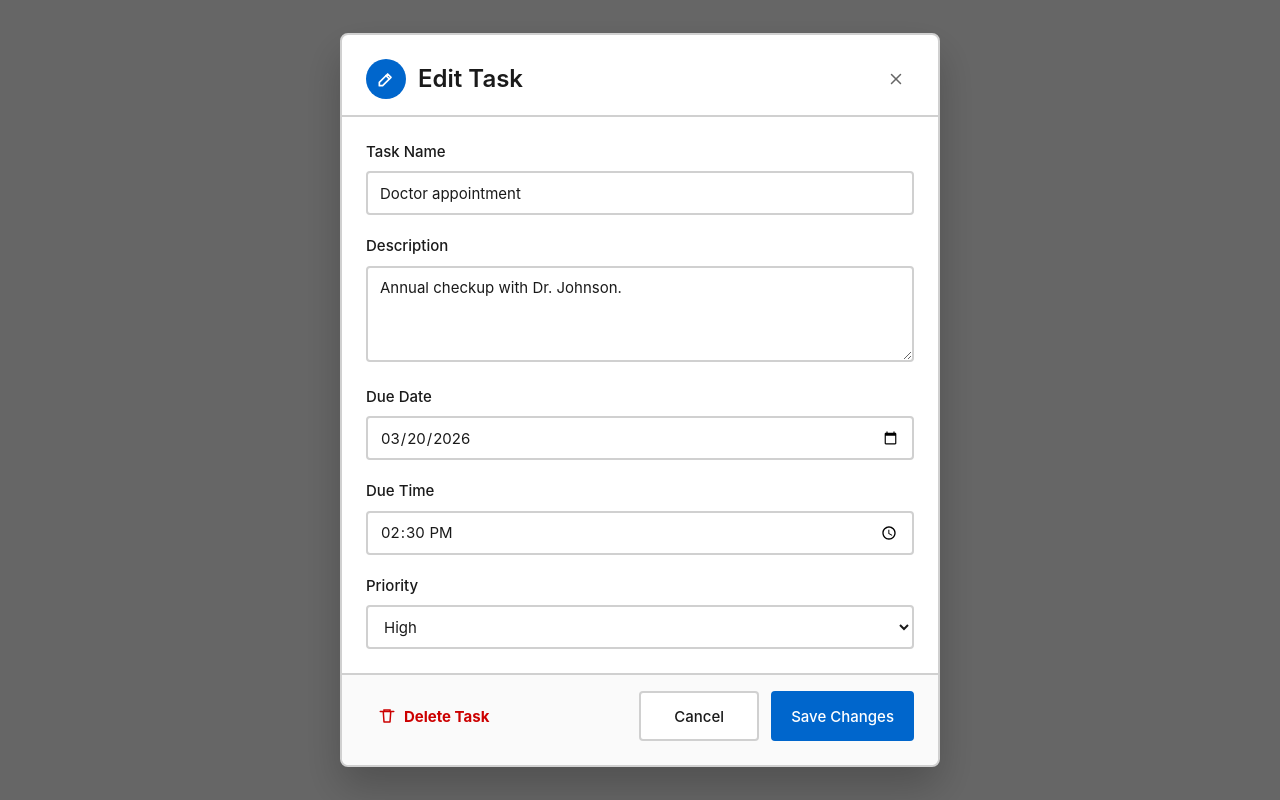
Test: EditTaskModal › shows validation when date and time are cleared and submitted
The image size is (1280, 800).
Clear the date field labelled "Due Date" at (640, 438), box [366,416,914,460]
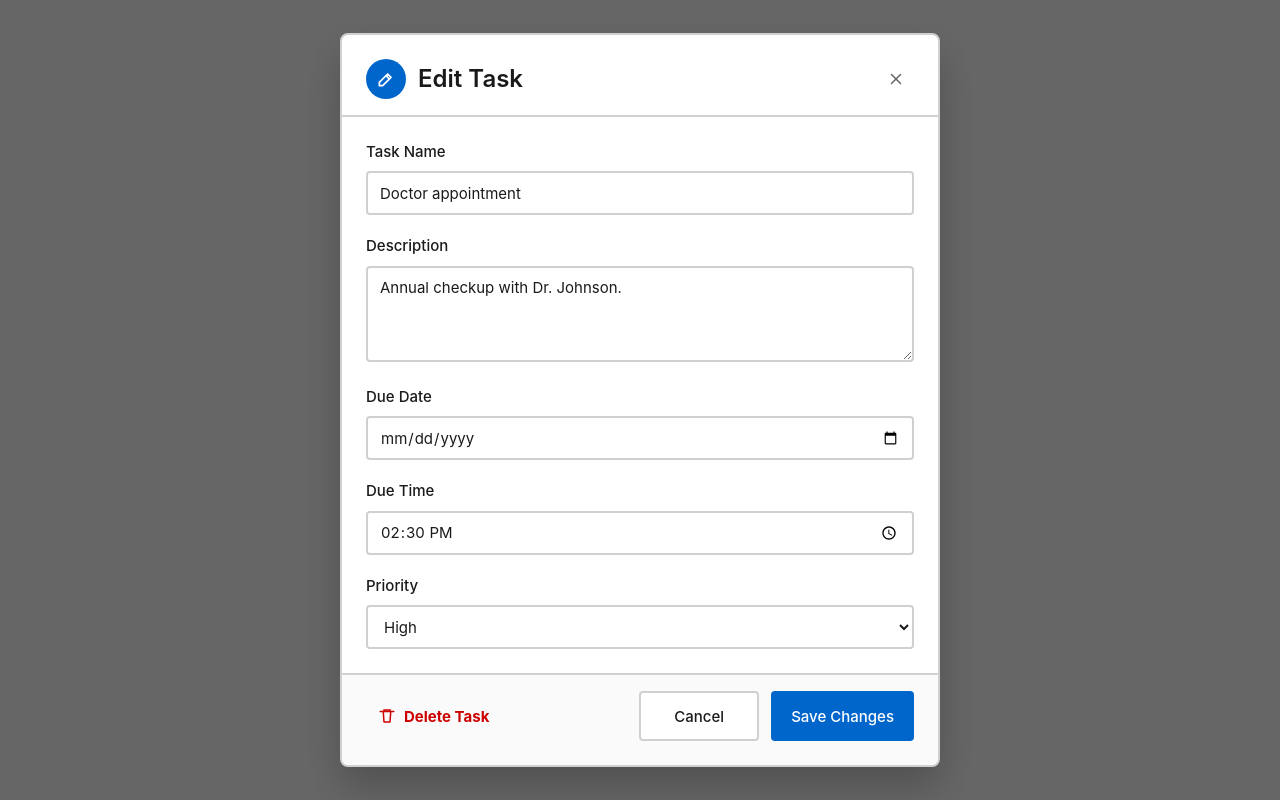
Clear the time field labelled "Due Time" at (640, 533), box [366,511,914,555]
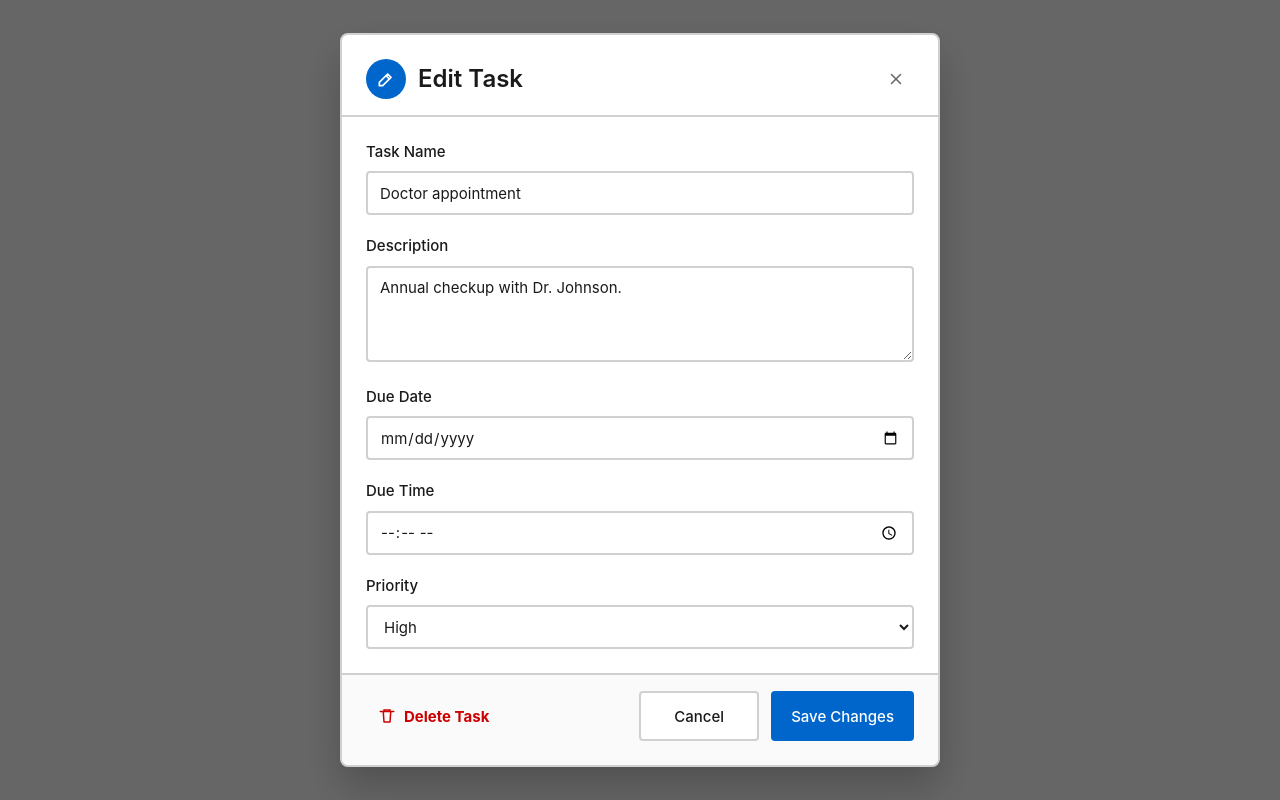
Submit the form, box [342,35,938,765]
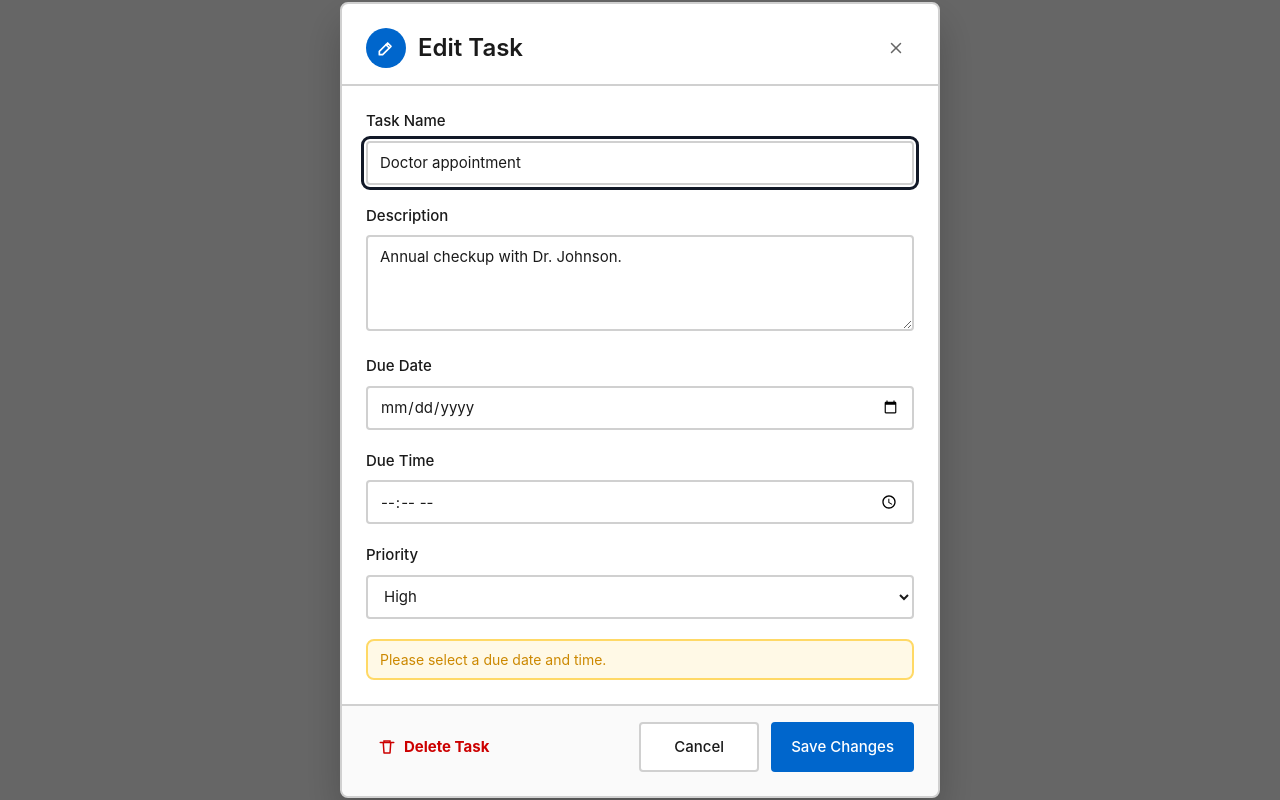
Result: the text "Please select a due date and time." is shown at [380,651,606,668]
